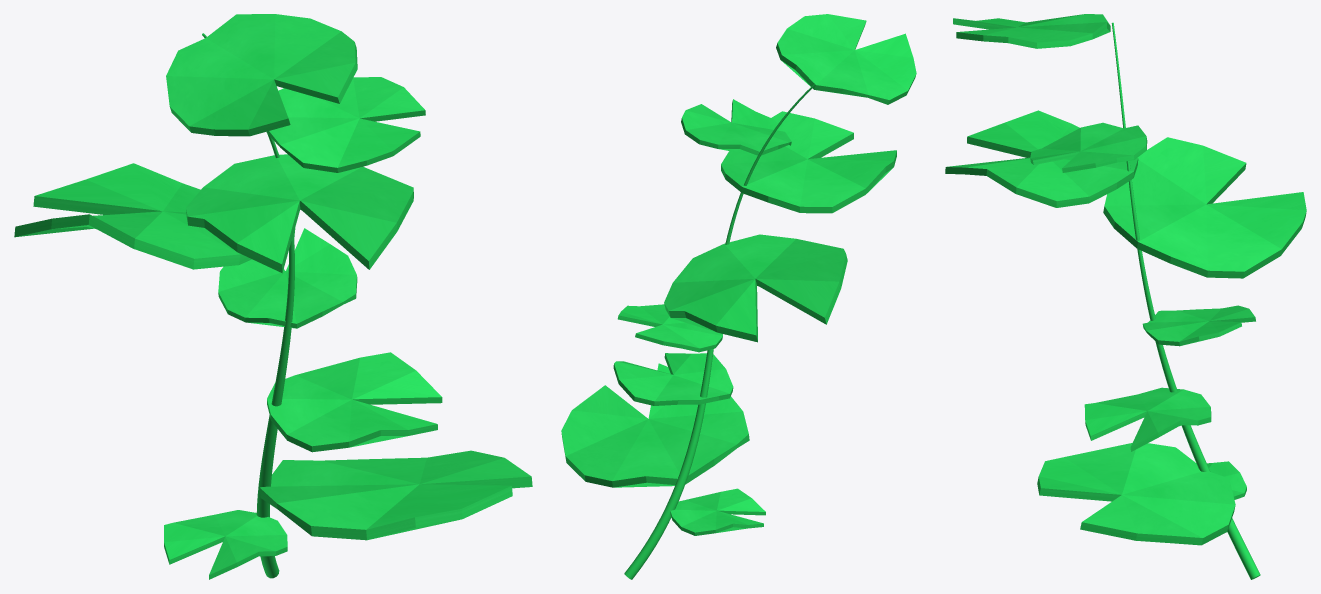
File: circle plant11.fbx
The picture shows the model from 3 angles, left to right: view 1: azimuth 30°, elevation 25°; view 2: azimuth 150°, elevation 25°; view 3: azimuth 270°, elevation 25°; orthographic projection. The views are drawn at different scales.
Visible parts, largest first — view 1: Cylinder.076, Cylinder.079, Cylinder.080, Cylinder.081, Cylinder.075, Cylinder.077, Cylinder.078, Cylinder.082, NurbsPath.031; view 2: Cylinder.079, Cylinder.075, Cylinder.080, Cylinder.076, Cylinder.081, Cylinder.077, Cylinder.082, NurbsPath.031, Cylinder.078; view 3: Cylinder.075, Cylinder.079, Cylinder.080, Cylinder.081, Cylinder.076, Cylinder.077, Cylinder.078, NurbsPath.031, Cylinder.082.
Boxes of the visible parts, x1,y1,x2,y2 form: Cylinder.076: [166, 14, 357, 136]; Cylinder.079: [259, 450, 532, 540]; Cylinder.080: [186, 154, 413, 273]; Cylinder.081: [267, 352, 442, 452]; Cylinder.075: [14, 163, 295, 269]; Cylinder.077: [266, 77, 425, 172]; Cylinder.078: [218, 228, 357, 328]; Cylinder.082: [164, 510, 287, 579]; NurbsPath.031: [202, 33, 294, 578]; Cylinder.079: [561, 363, 749, 487]; Cylinder.075: [664, 234, 847, 342]; Cylinder.080: [721, 111, 896, 213]; Cylinder.076: [776, 14, 916, 104]; Cylinder.081: [613, 353, 733, 405]; Cylinder.077: [681, 99, 791, 155]; Cylinder.082: [670, 488, 765, 535]; NurbsPath.031: [624, 83, 816, 579]; Cylinder.078: [617, 304, 722, 352]; Cylinder.075: [1103, 137, 1306, 278]; Cylinder.079: [1037, 443, 1235, 545]; Cylinder.080: [945, 110, 1138, 207]; Cylinder.081: [1084, 387, 1211, 451]; Cylinder.076: [953, 14, 1110, 48]; Cylinder.077: [1030, 122, 1147, 172]; Cylinder.078: [1142, 305, 1255, 346]; NurbsPath.031: [1111, 22, 1260, 579]; Cylinder.082: [1207, 461, 1246, 499].
Bounding box in the file's own units: 165 × 253 × 161.
